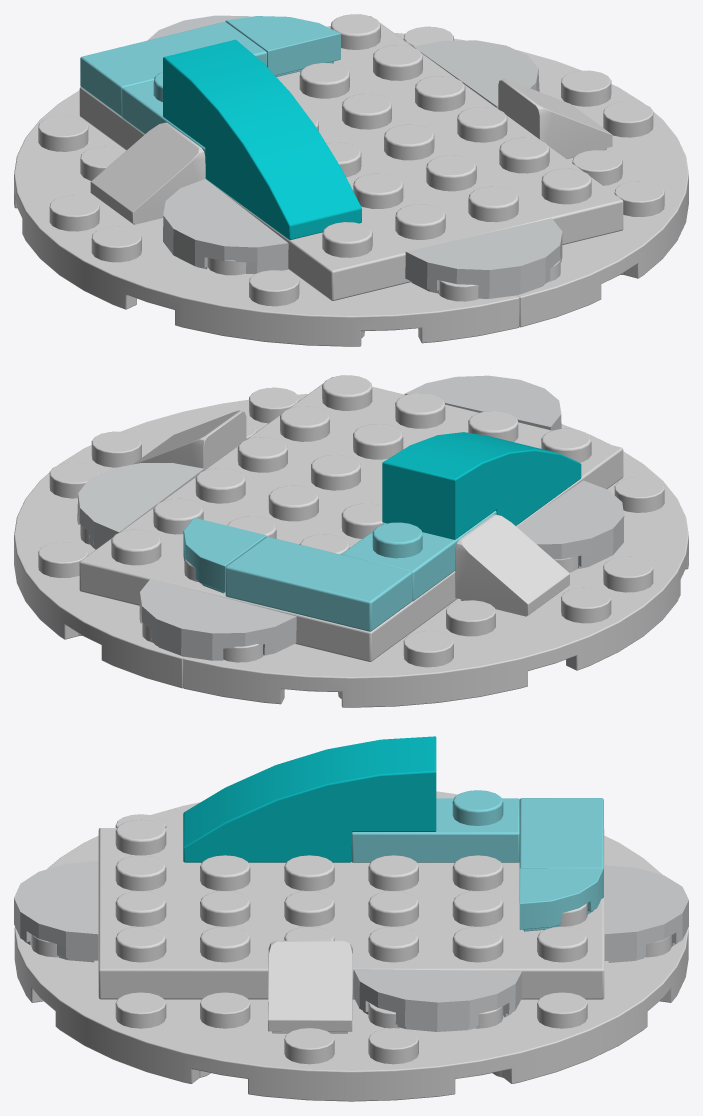
The model's file is Passo6.fbx.
The picture shows the model from 3 angles, top to bottom: view 1: azimuth 30°, elevation 25°; view 2: azimuth 150°, elevation 25°; view 3: azimuth 270°, elevation 25°; orthographic projection.
Parts seen in each view (by area): view 1: Plate_4x6.005, Plate_round_4x8_1.004, Slope_curved_3x1, Plate_round_4x8.005, Tile_round_1x2__1_.003, Tile_round_1x2__2_.003, Slope_1x1__1_.002, Tile_1x2.001, Slope_1x1.002, Tile_round_1x2__3_.003, Tile_round_1x1_2.001, Plate_1x2.001 (+1 smaller); view 2: Plate_4x6.005, Plate_round_4x8_1.004, Plate_round_4x8.005, Slope_curved_3x1, Tile_1x2.001, Tile_round_1x2.003, Slope_1x1__1_.002, Tile_round_1x2__2_.003, Tile_round_1x2__3_.003, Plate_1x2.001, Tile_round_1x2__1_.003, Tile_round_1x1_2.001 (+1 smaller); view 3: Plate_4x6.005, Plate_round_4x8.005, Slope_curved_3x1, Tile_round_1x2__3_.003, Plate_1x2.001, Slope_1x1.002, Tile_round_1x2__1_.003, Tile_round_1x2.003, Tile_1x2.001, Tile_round_1x1_2.001, Plate_round_4x8_1.004.
Boxes of the visible parts, box(x1,y1,x2,y2) form: Plate_4x6.005: box(79, 14, 623, 300); Plate_round_4x8_1.004: box(14, 90, 519, 346); Slope_curved_3x1: box(163, 39, 361, 240); Plate_round_4x8.005: box(394, 26, 688, 327); Tile_round_1x2__1_.003: box(405, 218, 562, 298); Tile_round_1x2__2_.003: box(163, 179, 288, 273); Slope_1x1__1_.002: box(90, 122, 205, 224); Tile_1x2.001: box(80, 22, 266, 116); Slope_1x1.002: box(498, 79, 612, 158); Tile_round_1x2__3_.003: box(413, 40, 539, 108); Tile_round_1x1_2.001: box(225, 16, 340, 76); Plate_1x2.001: box(122, 72, 205, 155); Plate_4x6.005: box(79, 375, 623, 661); Plate_round_4x8_1.004: box(183, 424, 688, 707); Plate_round_4x8.005: box(14, 387, 308, 688); Slope_curved_3x1: box(382, 432, 581, 539); Tile_1x2.001: box(225, 537, 412, 631); Tile_round_1x2.003: box(139, 578, 296, 660); Slope_1x1__1_.002: box(455, 514, 569, 616); Tile_round_1x2__2_.003: box(517, 480, 624, 568); Tile_round_1x2__3_.003: box(77, 463, 204, 549); Plate_1x2.001: box(341, 510, 496, 601); Tile_round_1x2__1_.003: box(404, 375, 561, 430); Tile_round_1x1_2.001: box(183, 517, 266, 593); Plate_4x6.005: box(98, 819, 604, 999); Plate_round_4x8.005: box(14, 929, 688, 1101); Slope_curved_3x1: box(183, 736, 436, 862); Tile_round_1x2__3_.003: box(353, 969, 522, 1031); Plate_1x2.001: box(351, 790, 519, 862); Slope_1x1.002: box(268, 940, 352, 1033); Tile_round_1x2__1_.003: box(14, 861, 98, 962); Tile_round_1x2.003: box(604, 865, 688, 962); Tile_1x2.001: box(519, 798, 603, 898); Tile_round_1x1_2.001: box(519, 868, 603, 931); Plate_round_4x8_1.004: box(14, 791, 688, 929).
Bounding box in the file's own units: 0.64 × 0.1595 × 0.6405.
